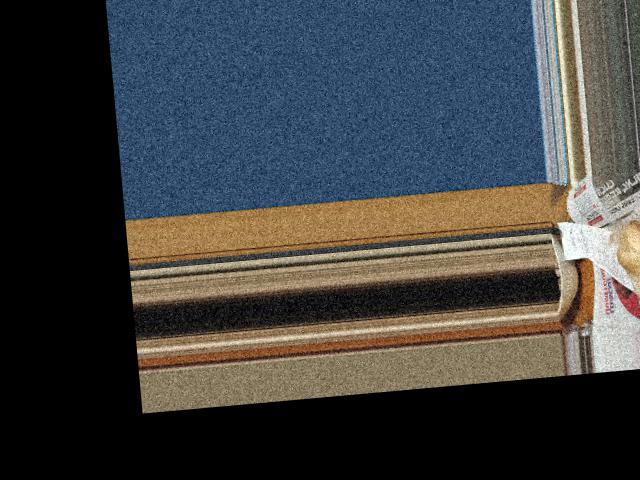onion: (613, 217, 640, 299)
